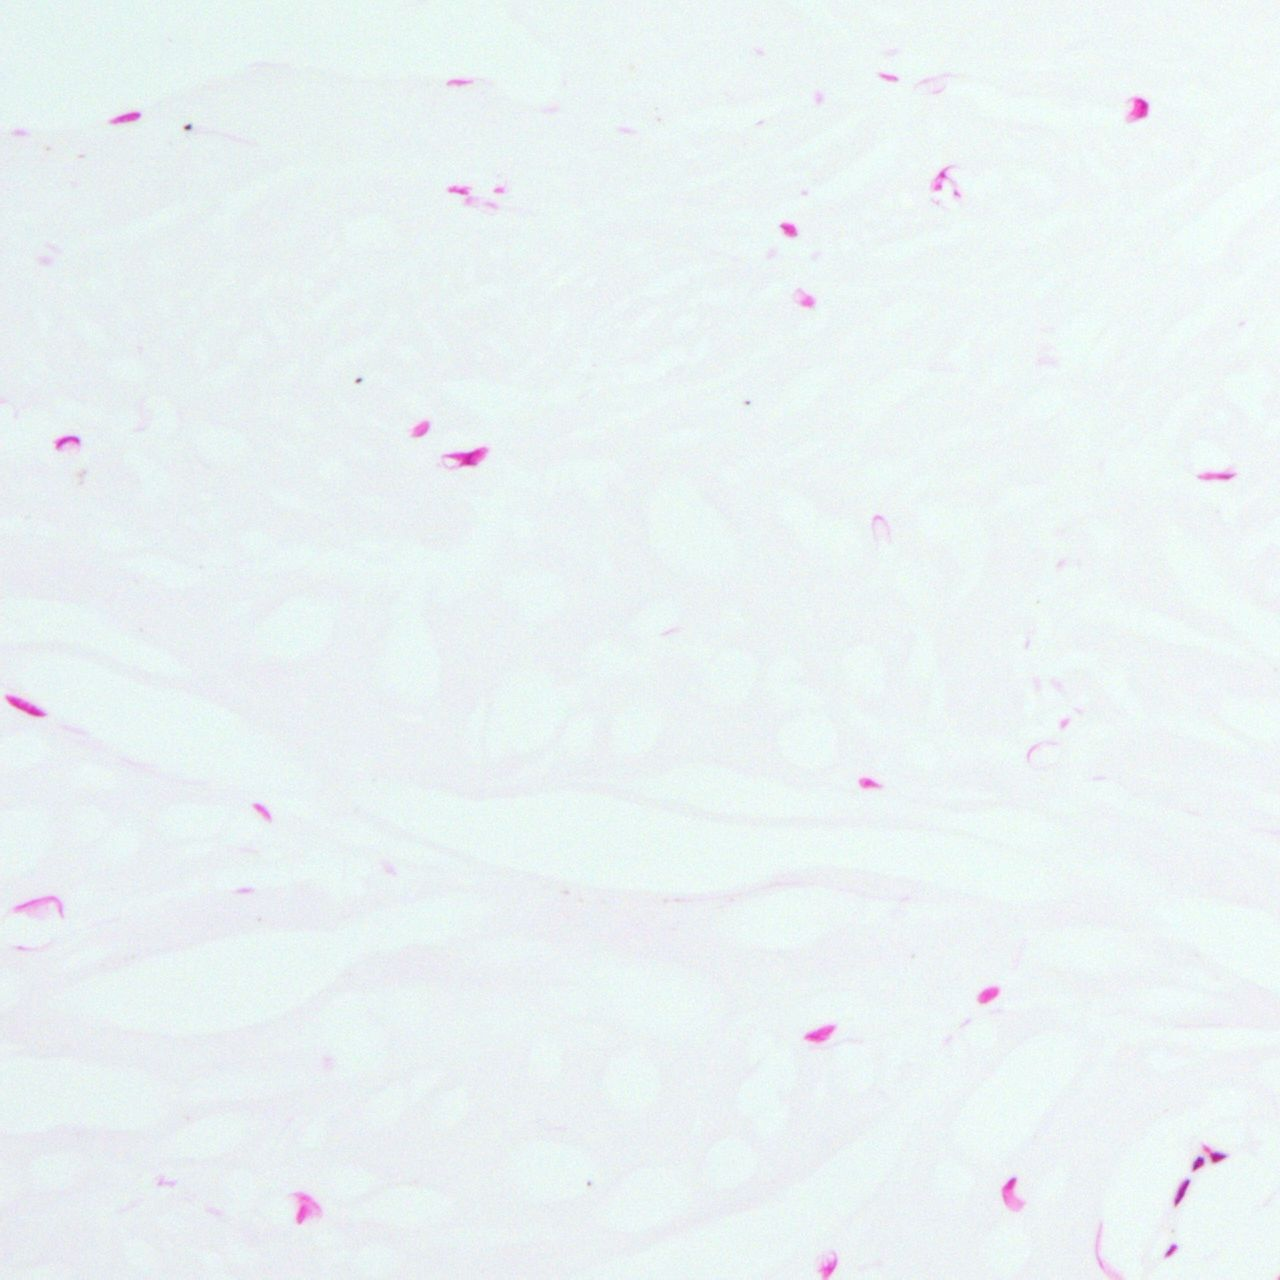dust: (184, 123, 193, 129), (355, 377, 361, 382)
nucleus-FG: (441, 444, 491, 471), (996, 1175, 1030, 1213), (4, 692, 49, 720), (803, 1019, 840, 1049), (1170, 1176, 1191, 1206), (107, 109, 143, 127), (1126, 96, 1148, 122), (1197, 471, 1235, 481), (55, 434, 80, 448), (1189, 1155, 1206, 1173), (1163, 1241, 1180, 1259), (877, 70, 898, 83), (1210, 1151, 1225, 1162)
